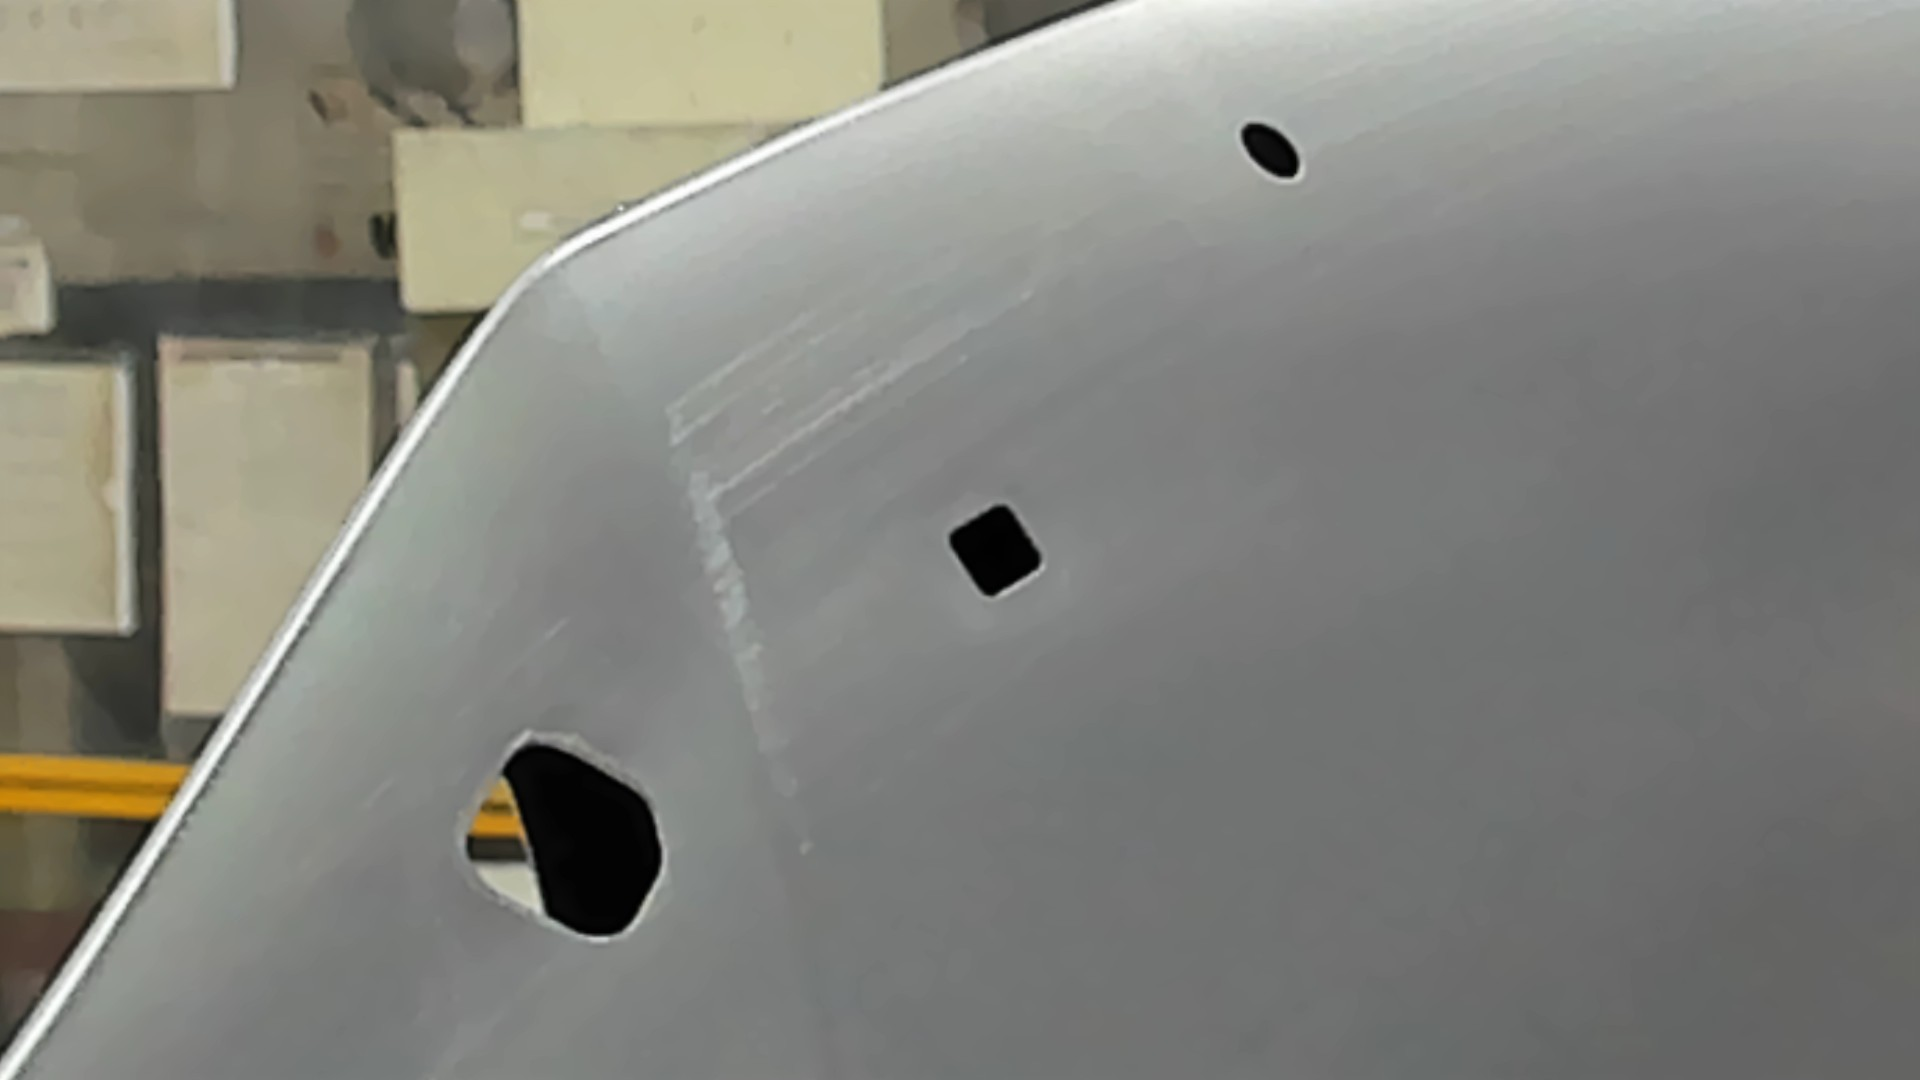chico: (1236, 113, 1305, 185)
grande: (452, 727, 674, 945)
mediano: (945, 498, 1047, 601)
